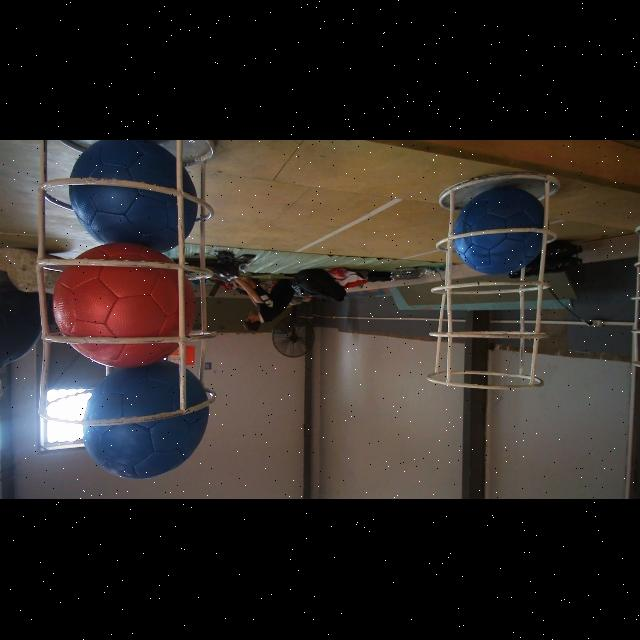B: (86, 362, 212, 486), (73, 142, 195, 250), (455, 188, 549, 278)
R: (54, 245, 196, 368)
